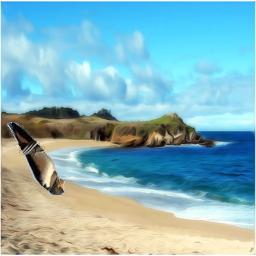Swallow: (7, 122, 65, 195)
